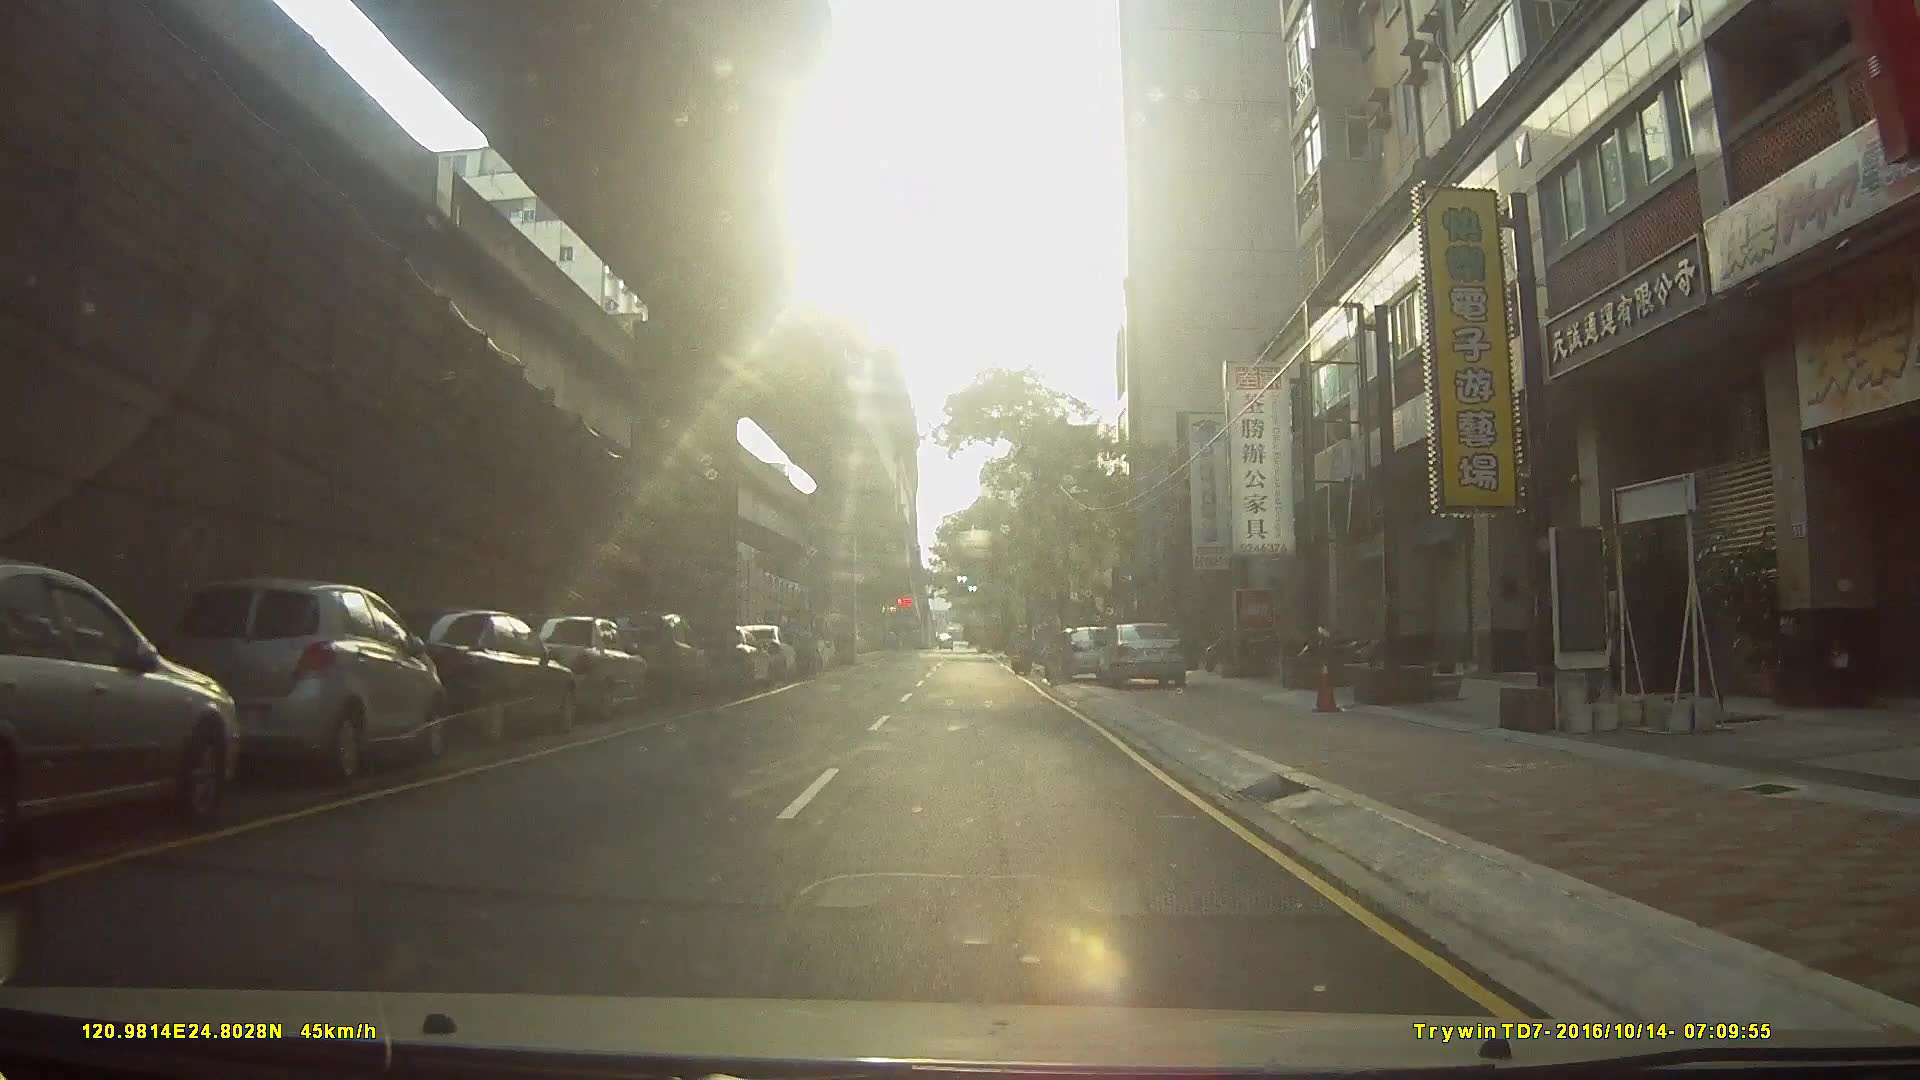vehicle: (1, 551, 239, 857), (127, 574, 430, 794), (375, 608, 570, 754), (506, 615, 646, 724), (597, 608, 709, 711), (1091, 620, 1189, 691), (1042, 625, 1122, 686), (760, 608, 816, 680), (964, 618, 1036, 655)
